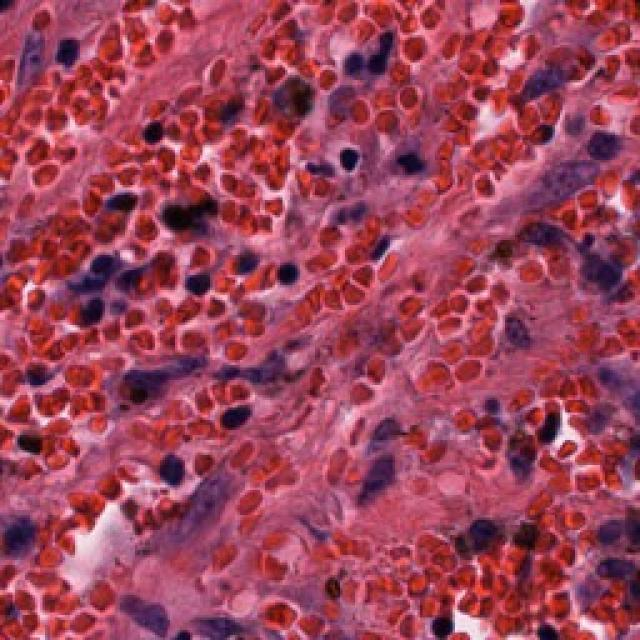abnormal: (148, 469, 248, 556), (347, 435, 425, 531), (510, 154, 613, 224), (93, 570, 193, 640)
